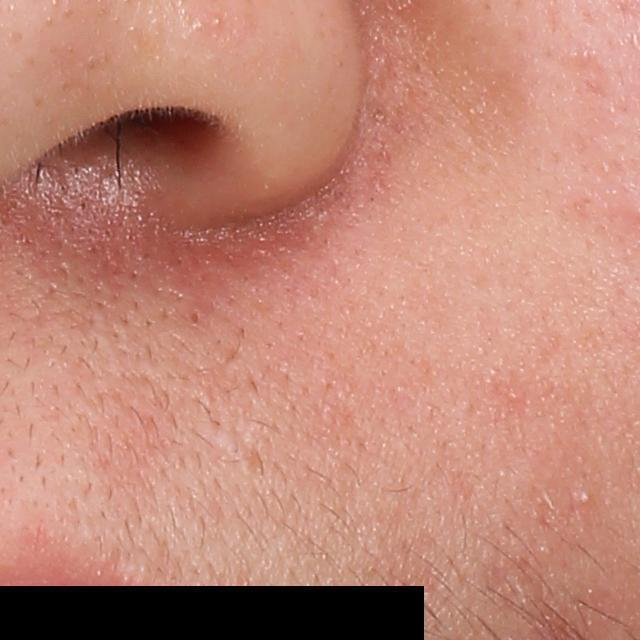comedo: (187, 307, 207, 327), (576, 489, 591, 507), (211, 16, 221, 28)
